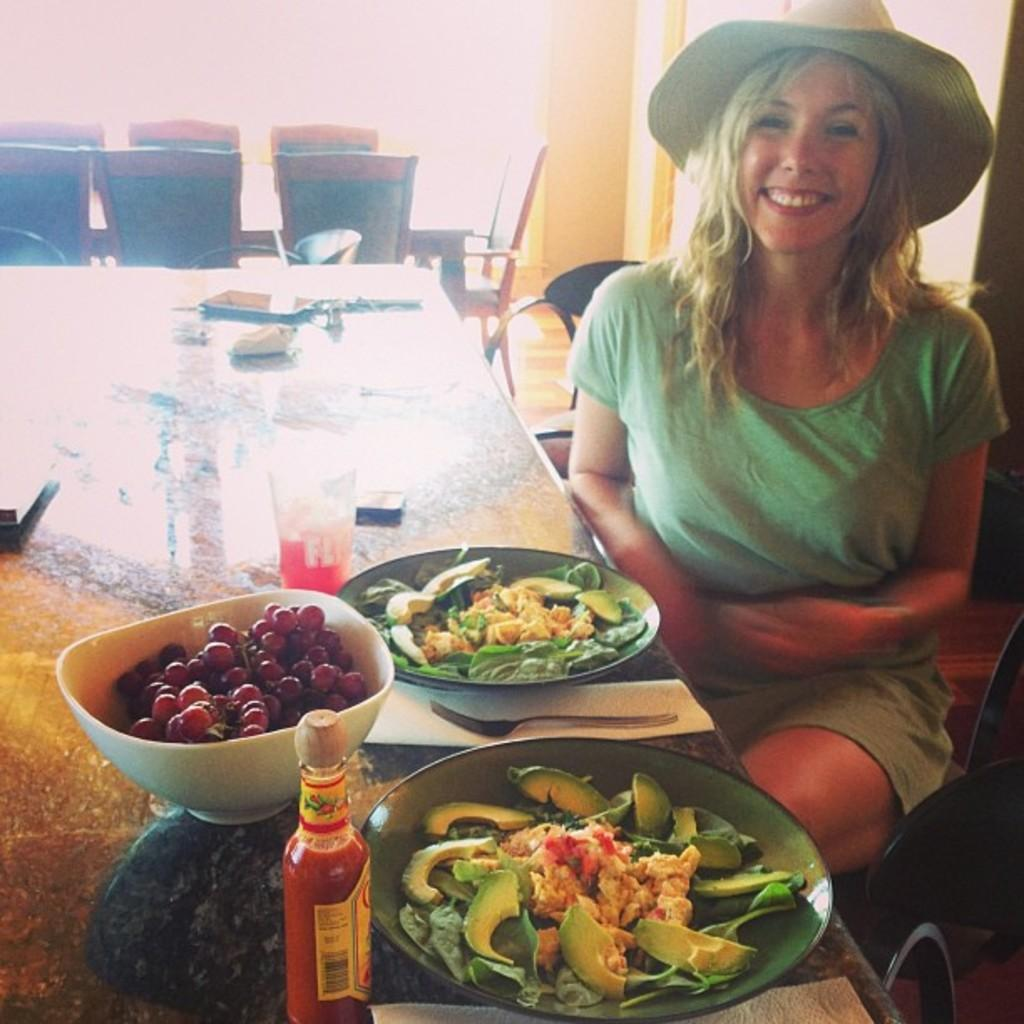Hat: (640, 0, 996, 234)
